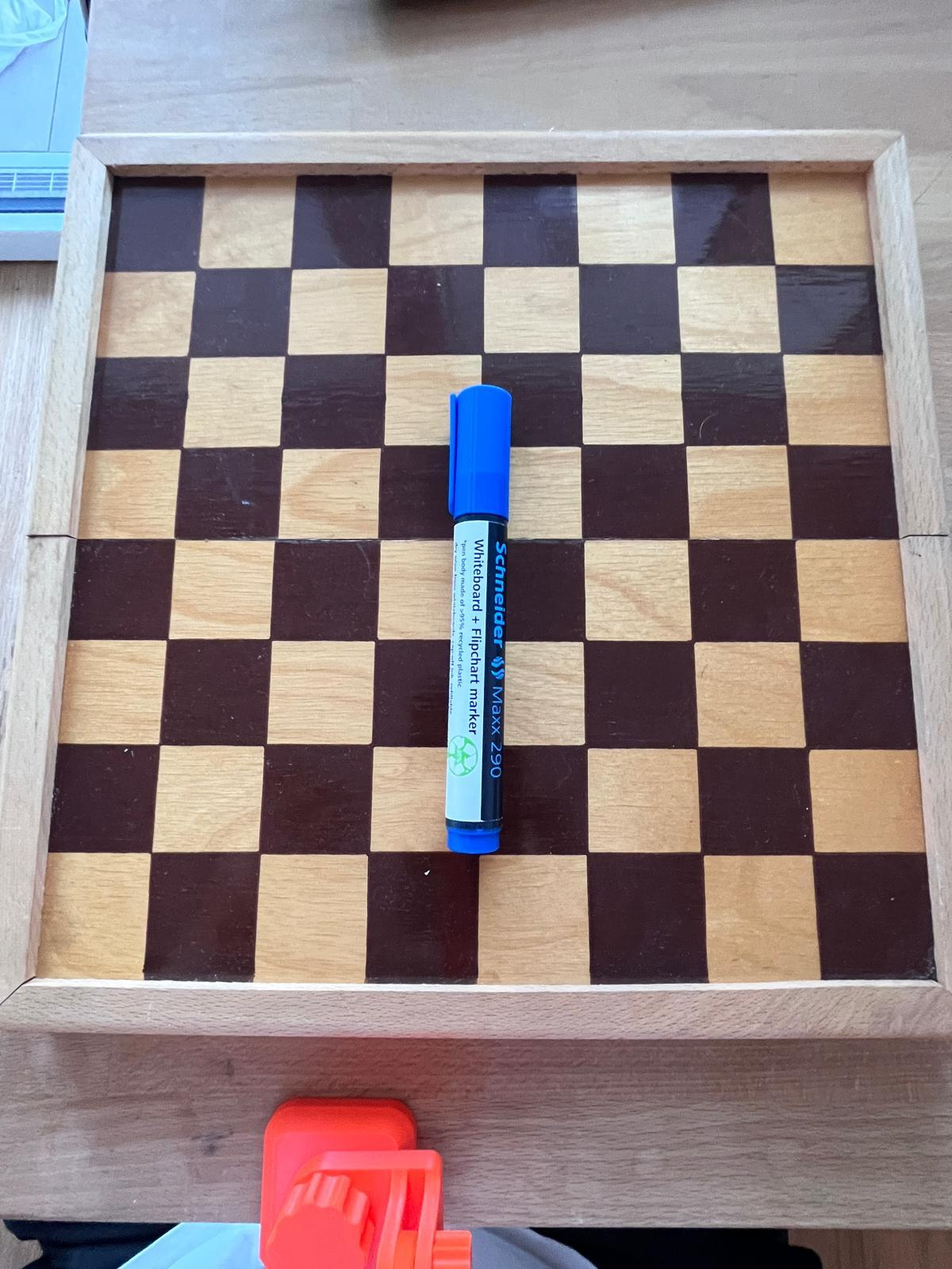marker: (438, 385, 517, 855)
